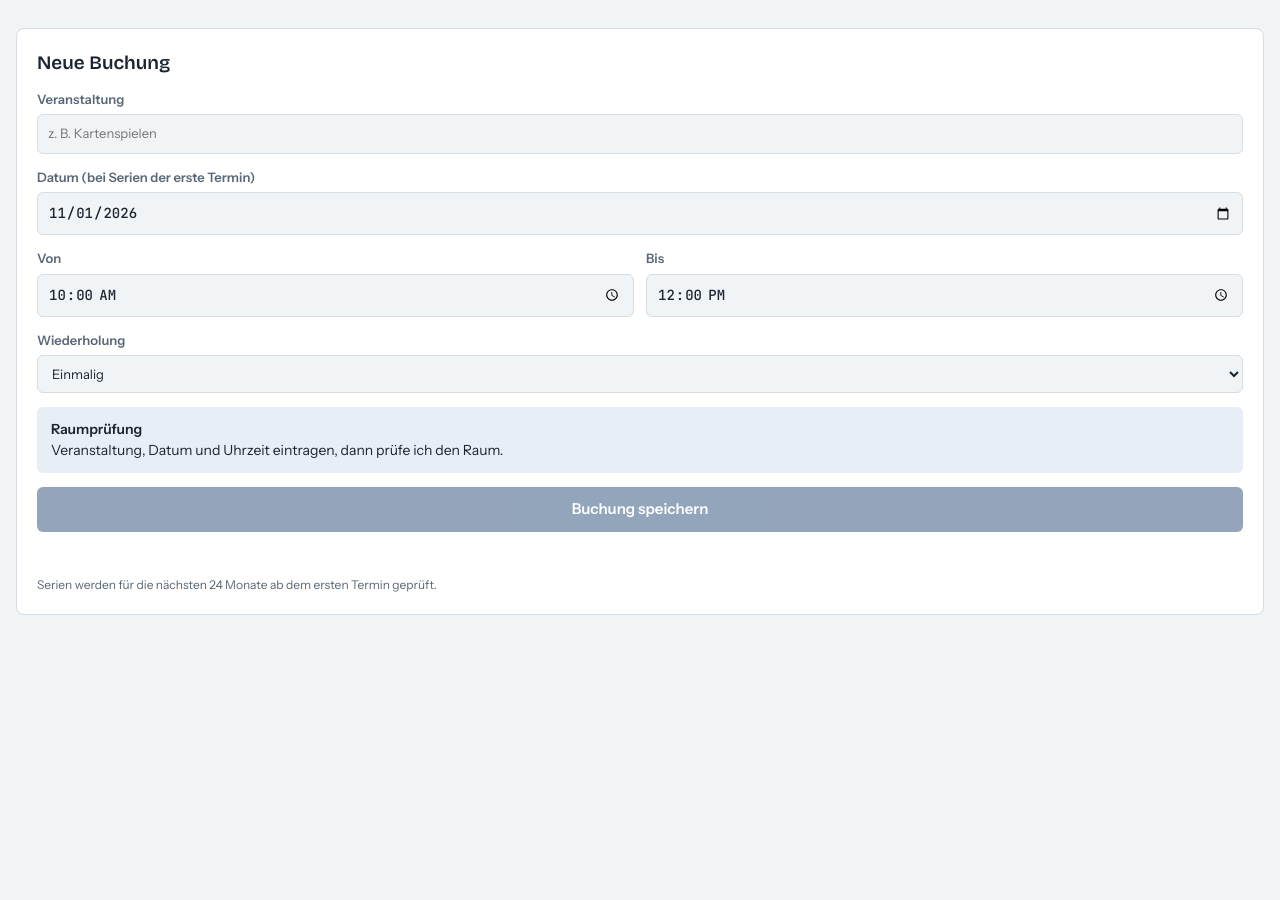
Test: BookingForm › labels the repeat options after the chosen date and shows "Serie endet am" for series
This screenshot has width=1280, height=900.
Check: the field labelled "Serie endet am" is not shown
Step 1. Type "2026-11-25" into the date field labelled "Datum (bei Serien der erste Termin)" → (640, 214), box [37,192,1243,235]
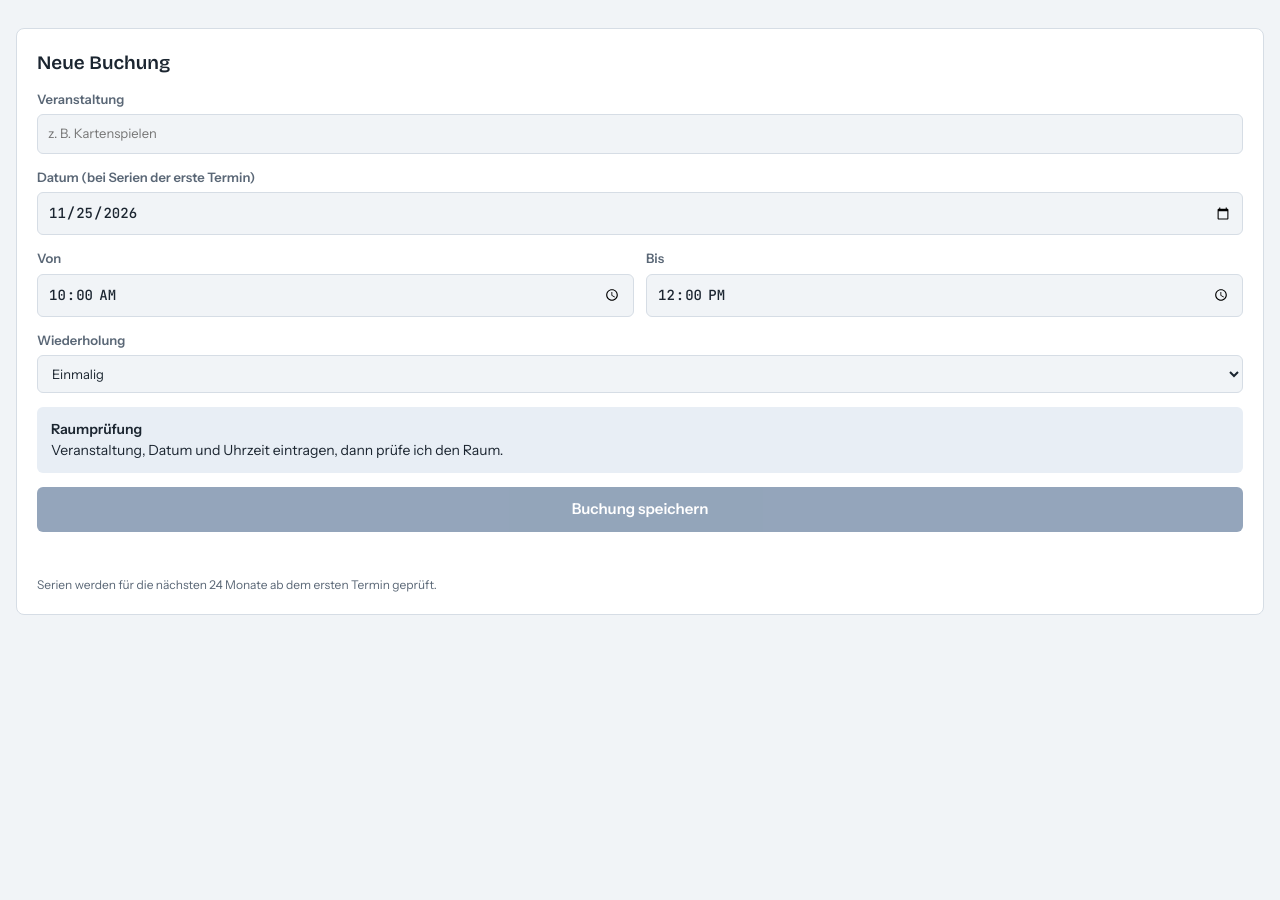
Step 2. Select "Monatlich (jeden letzten Mittwoch)" in the dropdown labelled "Wiederholung" → (640, 374), box [37,355,1243,393]
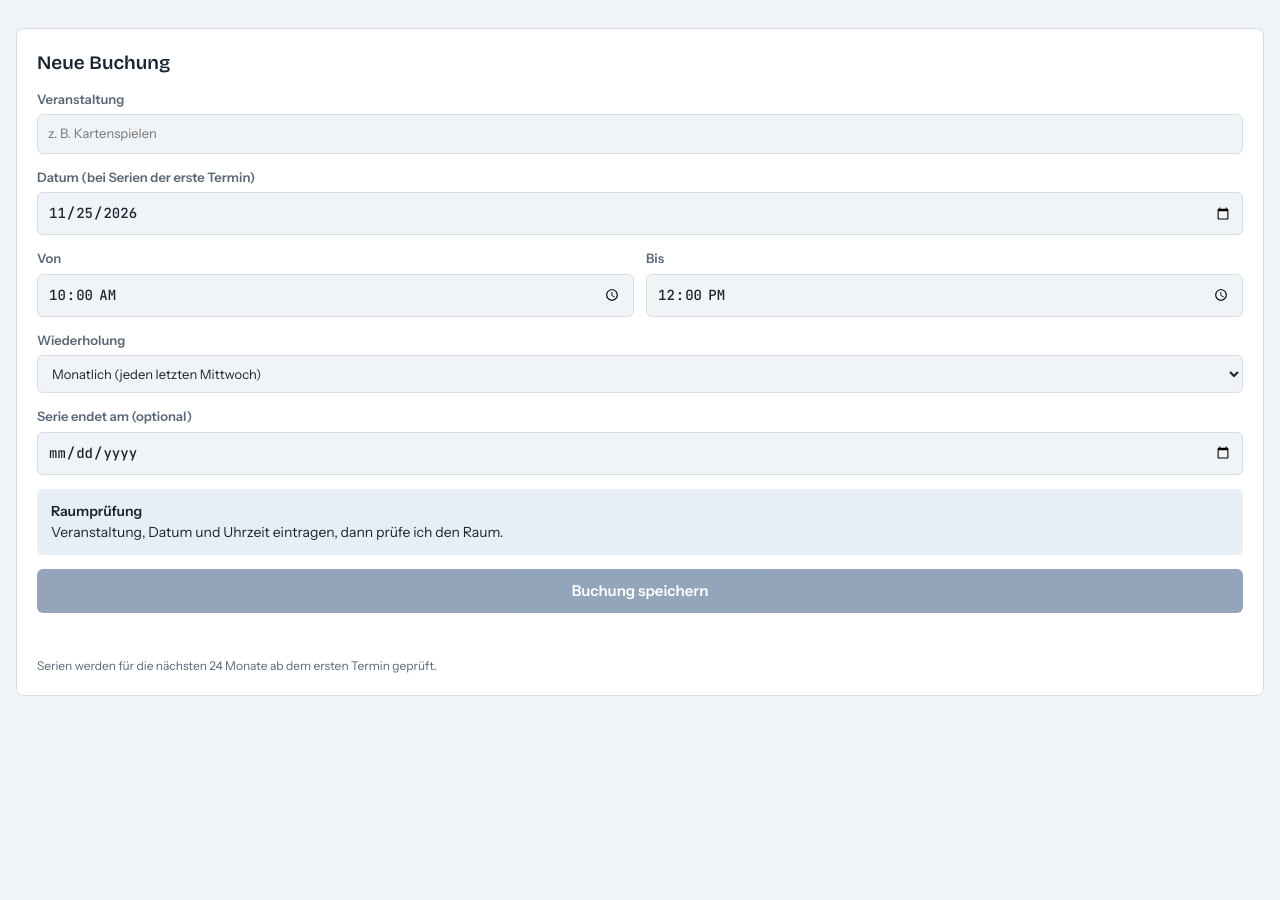
Check: the date field labelled "Serie endet am (optional)" is shown, box [37,432,1243,474]
